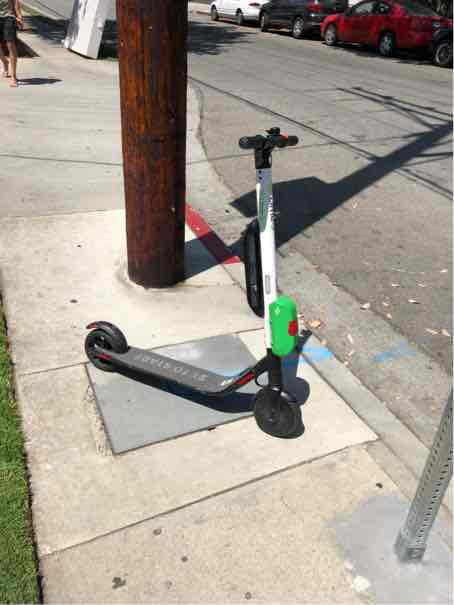scooter: (74, 130, 315, 441)
